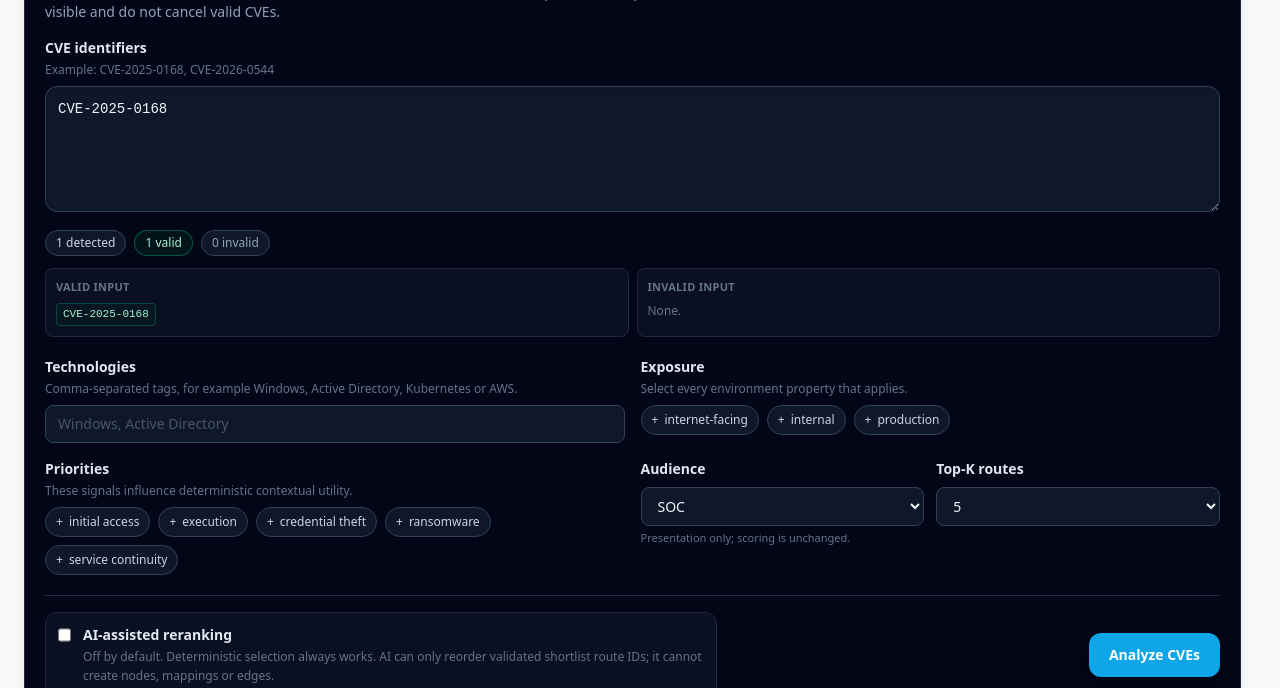
Test case: AnalyzePage multi-CVE workbench › shows loading-selected while exact lookup and scoring are running
This screenshot has width=1280, height=688.
Click the button "Analyze CVEs" at [1154, 655], box [1089,633,1220,677]
(page scrolled)
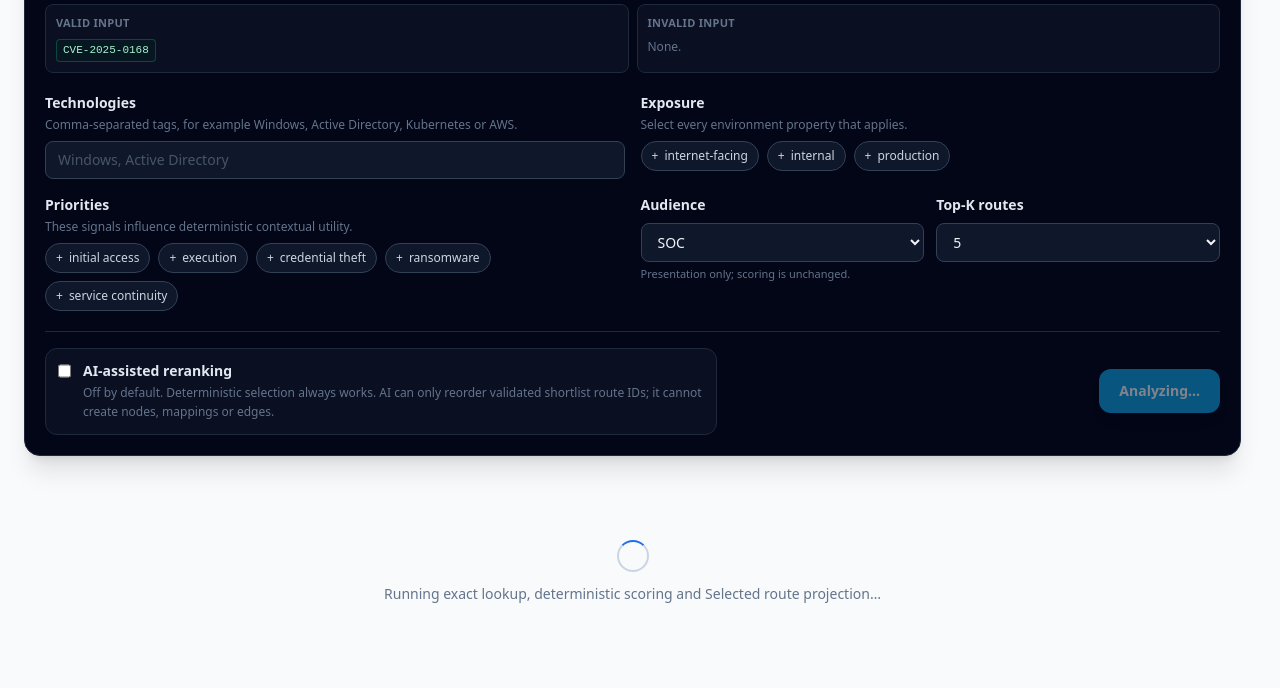
Check: the text "Running exact lookup, deterministic scoring and Selected route projection" is shown, box [384,584,881,602]
